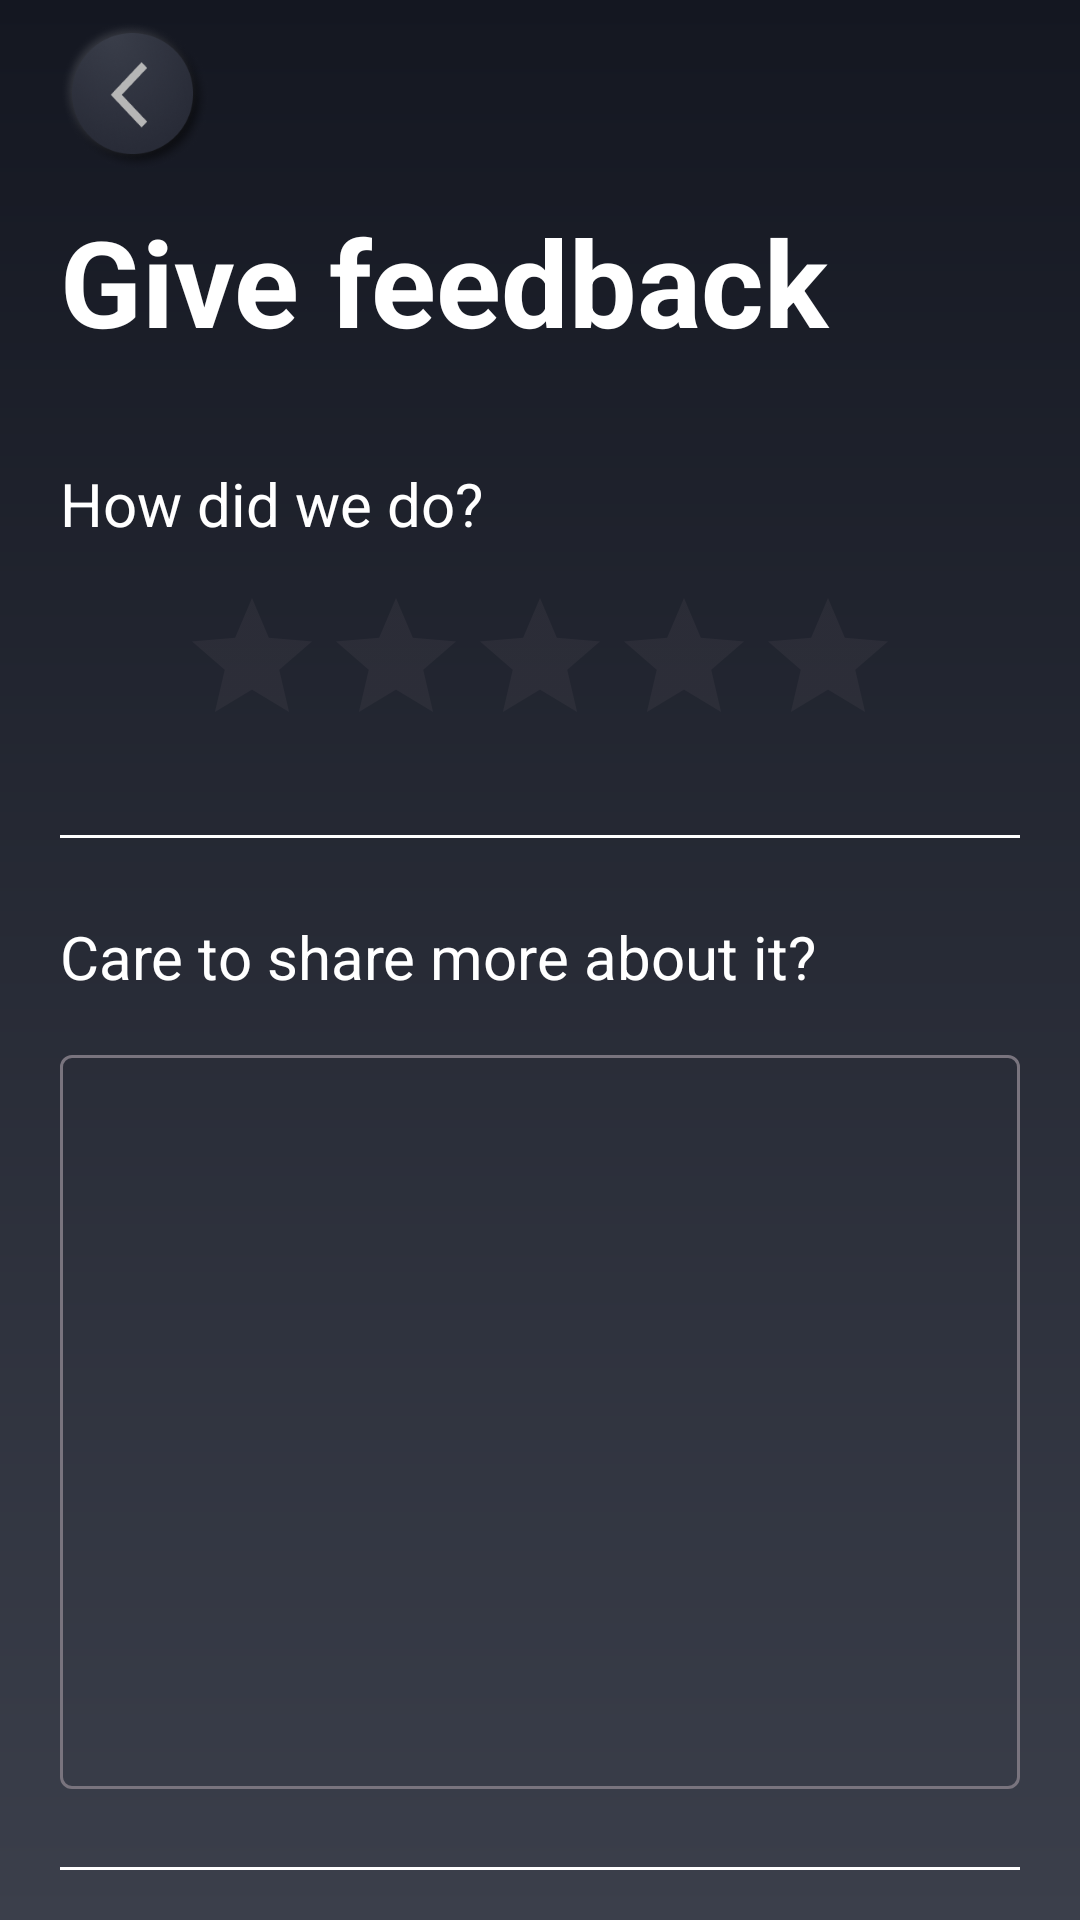

Where to tap for icons on this 1080px×1920px app screen, as (x=x, y=y):
back but: (x=128, y=81)
